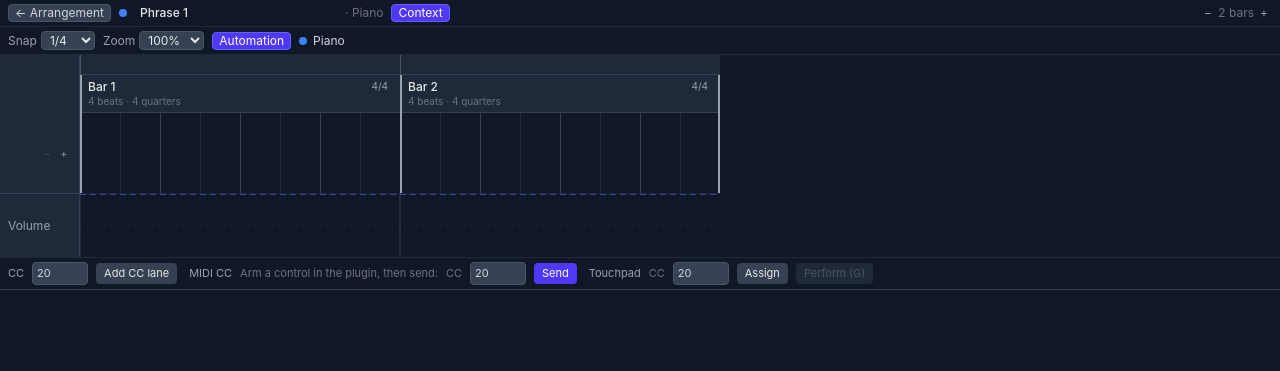
ChordTimeline MIDI CC lanes › renames a lane in place
Click the button "Send" at coordinates (555, 274), box [534,263,577,284]
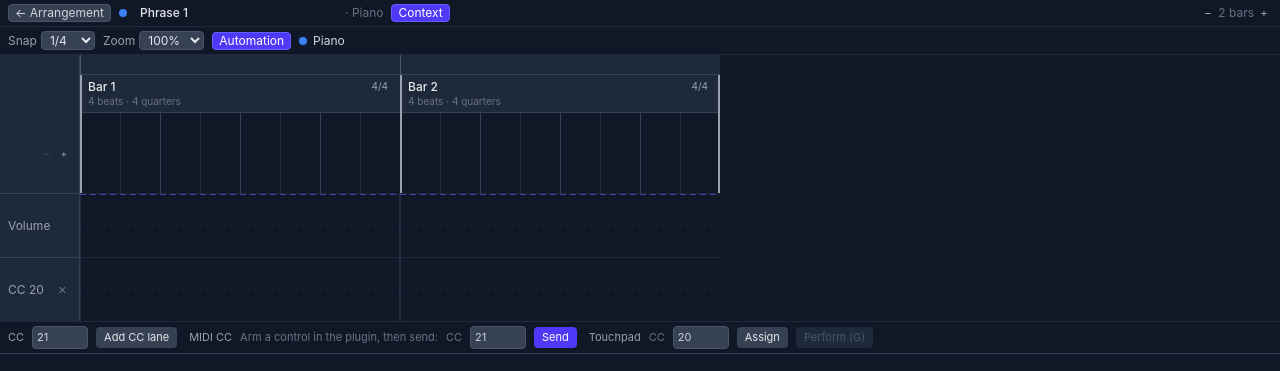
Double-click the text "CC 20" at coordinates (26, 290), box [8,282,44,298]
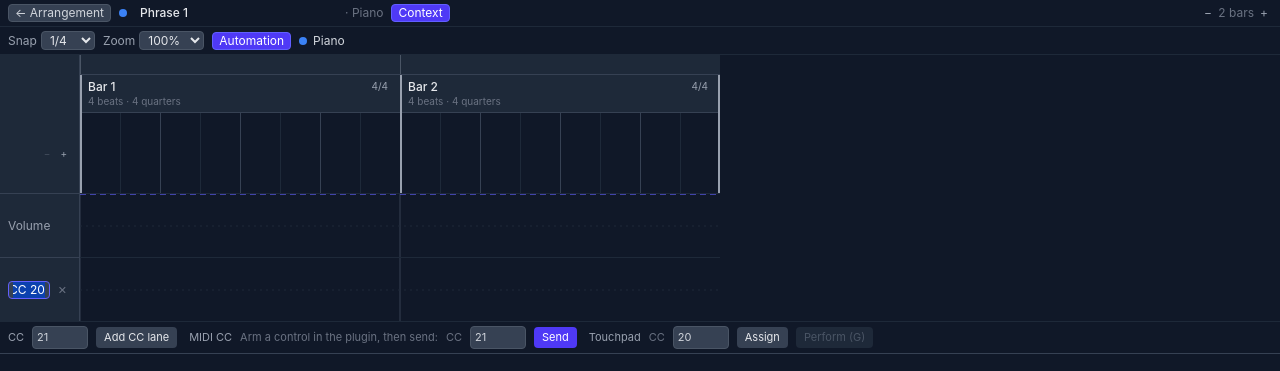
Replace the text in the field named "Rename CC 20 lane" with "Filter Cutoff" at coordinates (29, 290), box [8,281,50,299]
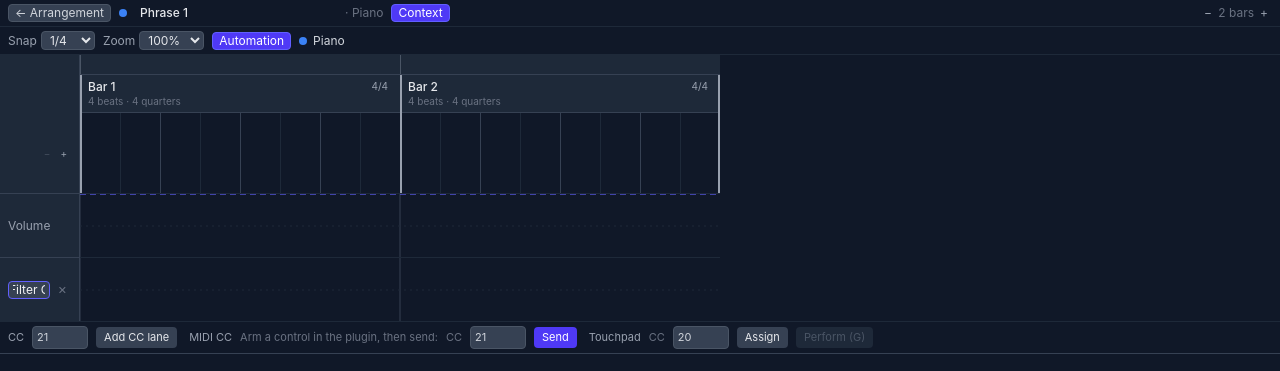
Press Enter in the field named "Rename CC 20 lane", box [8,281,50,299]
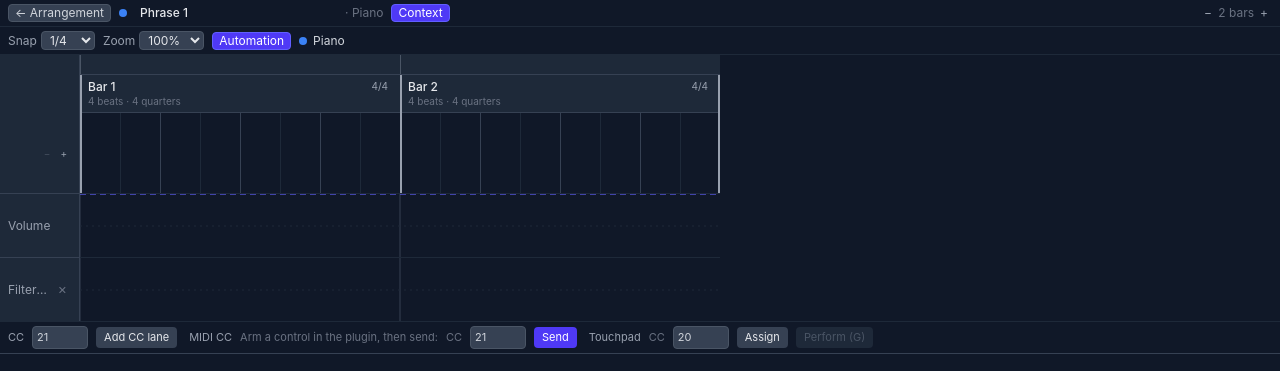
Check: the icon named "Filter Cutoff automation lane" is shown, box [80,258,720,321]
Check: the text "Filter Cutoff" is shown, box [8,282,50,298]
